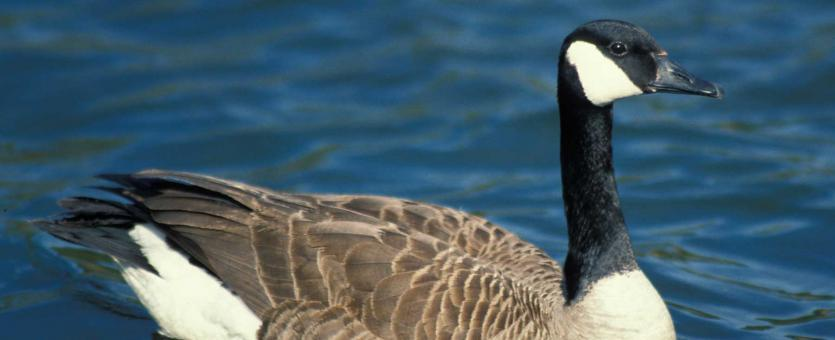Canadian-Goose: (66, 21, 721, 340)
